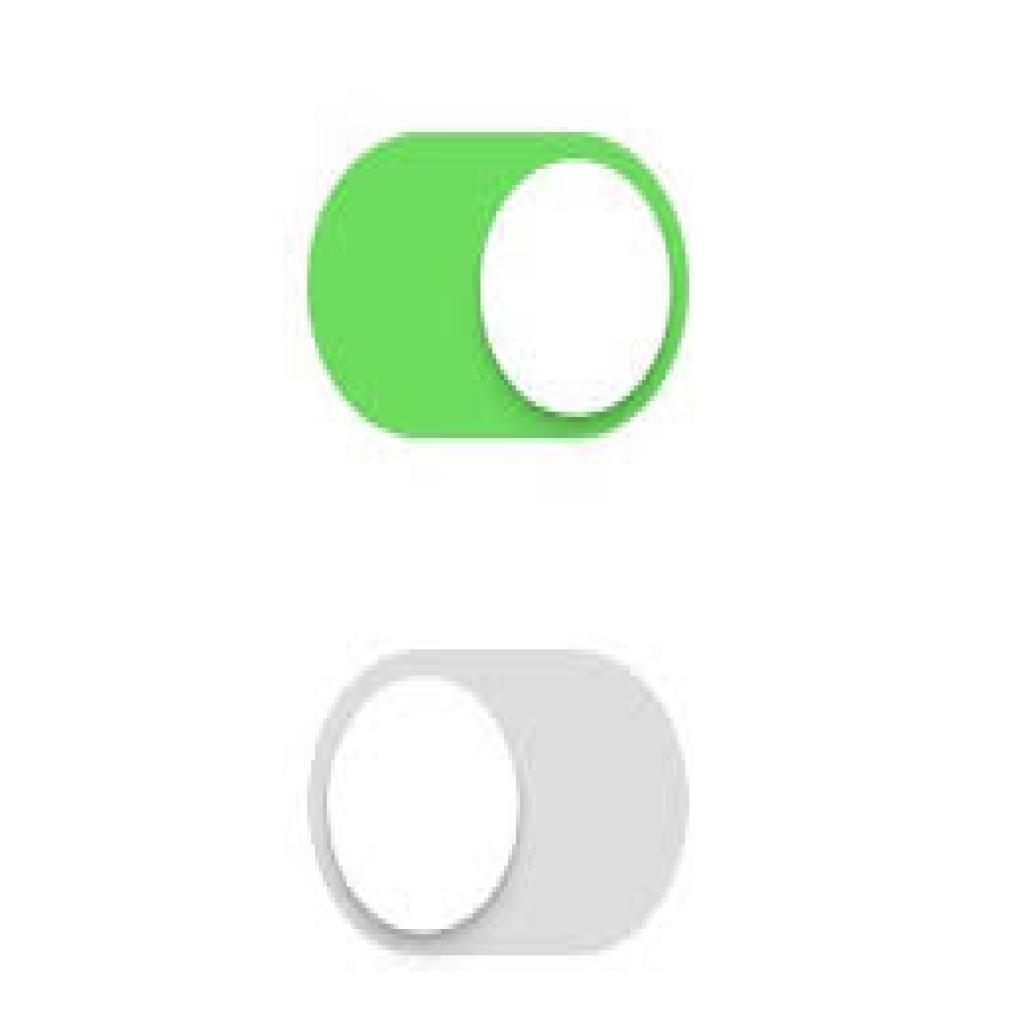switch: (306, 132, 689, 438), (308, 648, 691, 954)
